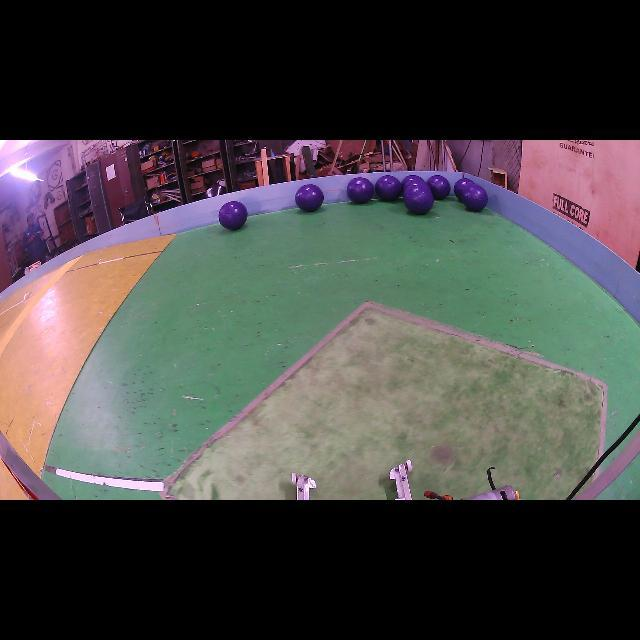P: (404, 184, 434, 215), (219, 201, 248, 230), (295, 184, 324, 212), (461, 184, 488, 211), (346, 178, 374, 204), (375, 175, 401, 201), (426, 175, 450, 198), (454, 178, 474, 201), (401, 175, 422, 190), (402, 179, 426, 191)
